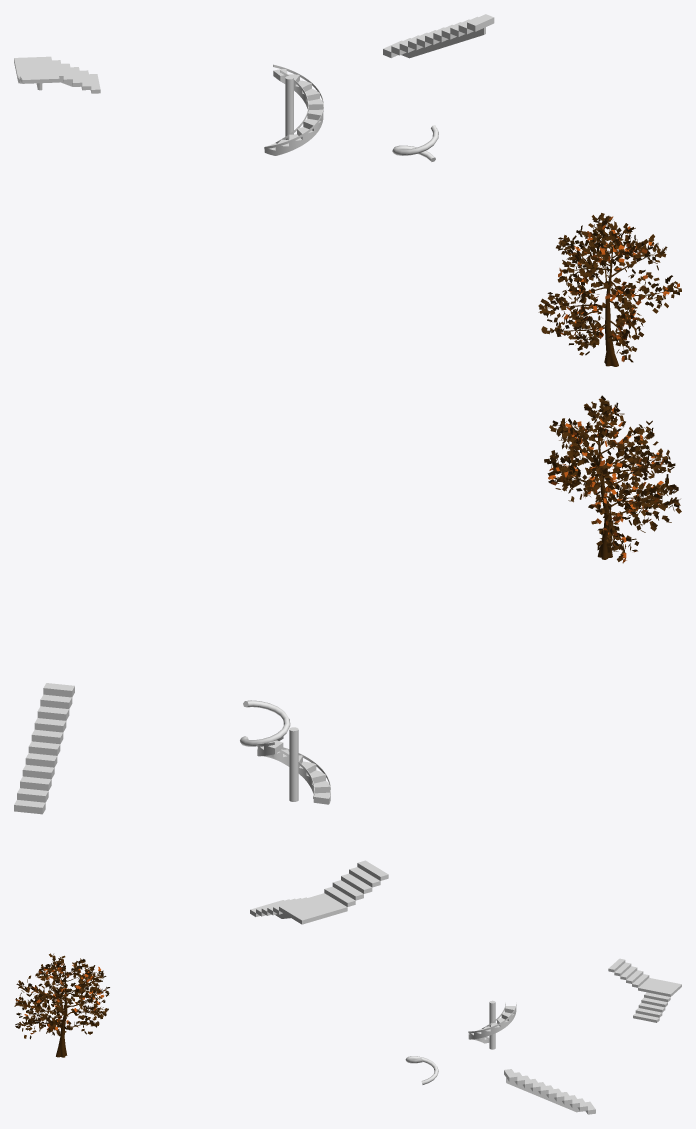
Rendered from test_import.DAE.
3 renders of one model, top to bottom at view 1: azimuth 30°, elevation 25°; view 2: azimuth 150°, elevation 25°; view 3: azimuth 270°, elevation 25°, orthographic. The views are drawn at different scales.
Visible parts, largest first — view 1: Foliage001, SpiralStair001, StraightStair001, LTypeStair001, Spring001; view 2: Foliage001, StraightStair001, LTypeStair001, SpiralStair001; view 3: Foliage001, LTypeStair001, StraightStair001, SpiralStair001, Spring001.
Part boxes in pixels (x1,y1,x2,y2): Foliage001: [538, 213, 681, 366]; SpiralStair001: [264, 64, 323, 155]; StraightStair001: [383, 14, 494, 58]; LTypeStair001: [14, 56, 100, 93]; Spring001: [392, 125, 438, 161]; Foliage001: [544, 395, 681, 563]; StraightStair001: [14, 683, 74, 814]; LTypeStair001: [250, 860, 388, 924]; SpiralStair001: [256, 727, 330, 804]; Foliage001: [14, 953, 109, 1057]; LTypeStair001: [608, 958, 681, 1022]; StraightStair001: [504, 1069, 595, 1114]; SpiralStair001: [468, 1000, 516, 1049]; Spring001: [405, 1056, 438, 1084].
Bounding box in the file's own units: 12.05 × 4.21 × 25.03.
